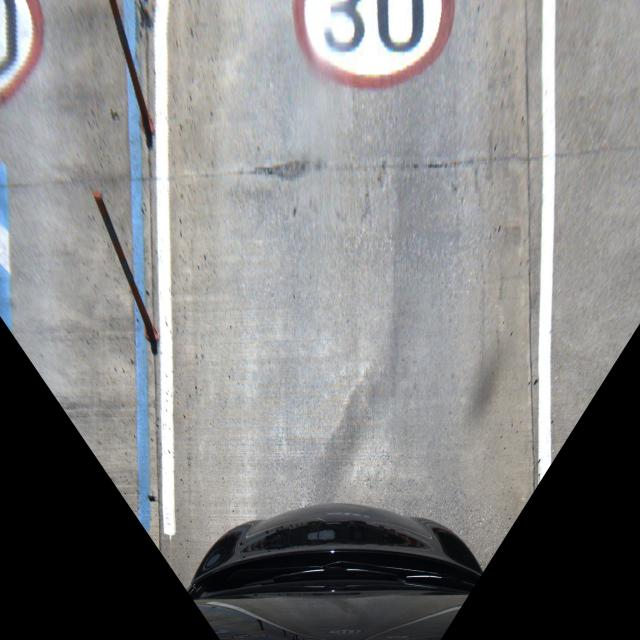30limit: (157, 1, 555, 159)
